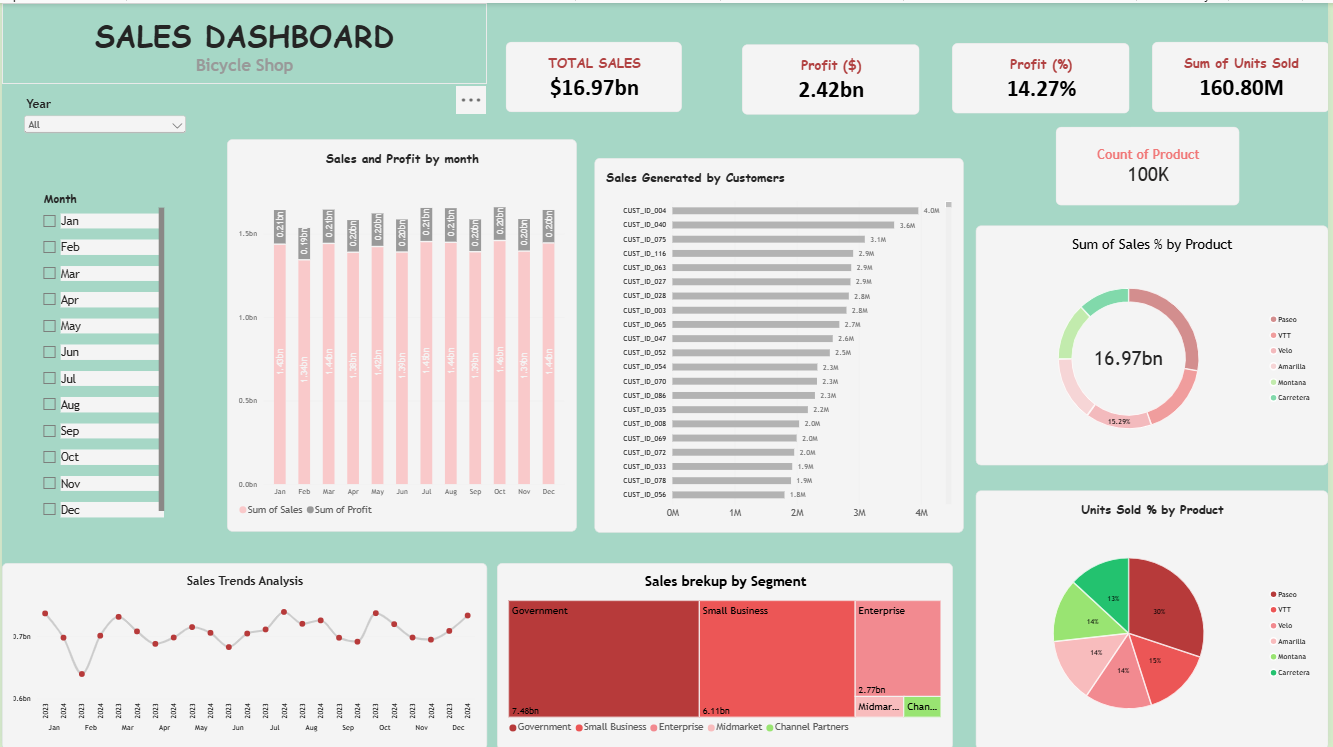

The page's visual inventory and layout, read from the dashboard file:
{"tool":"powerbi","page":{"name":"Page 1","canvas":[1920,1080],"ordinal":0},"visuals":[{"type":"cardVisual","fields":{"Data":["Sum(Sales Data.Sales)"]},"box":[730,56,255,102.5],"z":0},{"type":"cardVisual","fields":{"Data":["Sum(Sales Data.Profit)"]},"box":[1072,60,257.3,102.9],"z":1000},{"type":"cardVisual","fields":{"Data":["Sales Data.Profit (%)"]},"box":[1376,58,257.3,102.9],"z":2000},{"type":"cardVisual","fields":{"Data":["Sum(Sales Data.Units Sold)"]},"box":[1664,56,257.3,102.9],"z":3000},{"type":"cardVisual","fields":{"Data":["CountNonNull(Sales Data.Product_Name)"]},"box":[1526,180,266,114],"z":4000},{"type":"donutChart","title":"Sum of Sales % by Product","fields":{"Category":["Sales Data.Product_Name"],"Y":["Sum(Sales Data.Sales)"]},"box":[1410,322,510,347.5],"z":5000},{"type":"pieChart","title":"Units Sold % by Product","fields":{"Category":["Sales Data.Product_Name"],"Y":["Sum(Sales Data.Units Sold)"]},"box":[1410,705,510,375],"z":6000},{"type":"treemap","title":"Sales brekup by Segment","fields":{"Group":["Sales Data.Segment"],"Values":["Sum(Sales Data.Sales)"]},"box":[716,810,660,270],"z":7000},{"type":"lineChart","title":"Sales Trends Analysis","fields":{"Category":["Sales Data.Month name","Sales Data.Date.Variation.Date Hierarchy.Year"],"Y":["Sum(Sales Data.Sales)"]},"box":[0,810,702,270],"z":8000},{"type":"slicer","fields":{"Values":["Sales Data.Year"]},"box":[28,136,244,88],"z":9000},{"type":"slicer","fields":{"Values":["Sales Data.Month name"]},"box":[52,272,182,476],"z":10000},{"type":"textbox","box":[0,0,702,118],"z":11000},{"type":"clusteredBarChart","title":"Sales Generated by Customers","fields":{"Category":["Sales Data.Customer_ID"],"Y":["Sum(Sales Data.Sales)"]},"box":[858,224,534,542],"z":12000},{"type":"columnChart","title":"Sales and Profit by month","fields":{"Category":["Sales Data.Month name"],"Y":["Sum(Sales Data.Sales)","Sum(Sales Data.Profit)"]},"box":[326,198,506,568],"z":13000}]}

Visuals, with their boxes in screenshot pixels (x1, y1, x2, y2), scaled from the page's 1920x1080 canvas onto the 1333x747 screenshot:
cardVisual - Sum(Sales Data.Sales): 507:39:684:110
cardVisual - Sum(Sales Data.Profit): 744:42:923:113
cardVisual - Sales Data.Profit (%): 955:40:1134:111
cardVisual - Sum(Sales Data.Units Sold): 1155:39:1332:110
cardVisual - CountNonNull(Sales Data.Product_Name): 1059:124:1244:203
"Sum of Sales % by Product" donutChart: 979:223:1332:463
"Units Sold % by Product" pieChart: 979:488:1332:746
"Sales brekup by Segment" treemap: 497:560:955:746
"Sales Trends Analysis" lineChart: 0:560:487:746
slicer - Sales Data.Year: 19:94:189:155
slicer - Sales Data.Month name: 36:188:162:517
textbox: 0:0:487:82
"Sales Generated by Customers" clusteredBarChart: 596:155:966:530
"Sales and Profit by month" columnChart: 226:137:578:530
